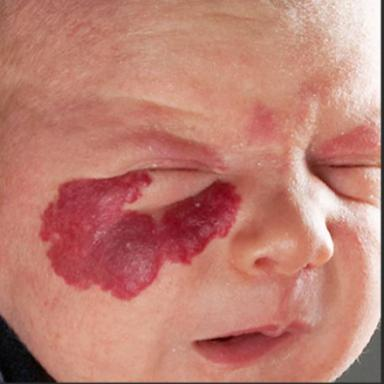Hemangiome: (40, 171, 241, 299)
